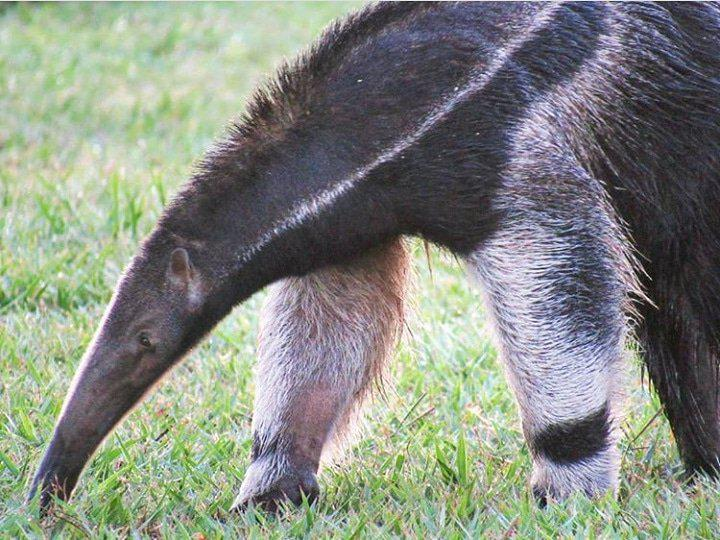TamanduaBandeira: (24, 4, 715, 529)
